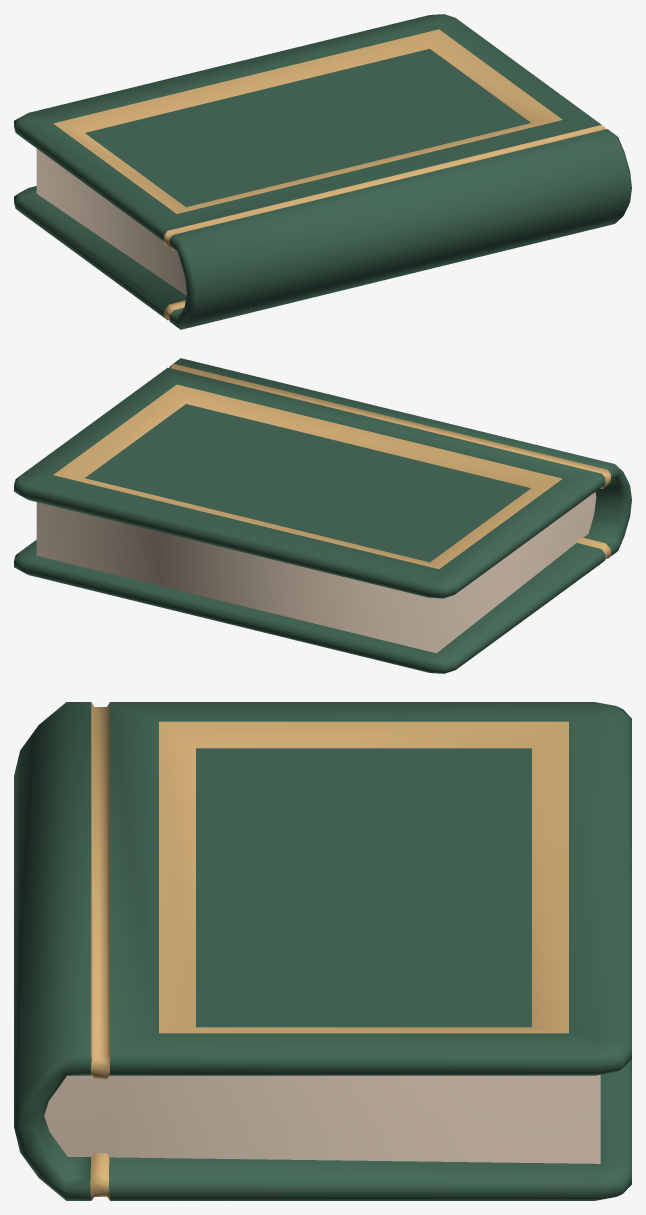
The model's file is book_green_2.fbx.
3 views of the same model, one above another, from view 1: azimuth 30°, elevation 25°; view 2: azimuth 150°, elevation 25°; view 3: azimuth 270°, elevation 25° (orthographic). The views are drawn at different scales.
Parts seen in each view (by area): view 1: Cube; view 2: Cube; view 3: Cube.
Boxes of the visible parts, x1=… form: Cube: x1=14, y1=14, x2=631, y2=329; Cube: x1=14, y1=358, x2=631, y2=673; Cube: x1=14, y1=702, x2=631, y2=1200.
Bounding box in the file's own units: 91.83 × 17.78 × 67.28.
1 material, 1 textured.
